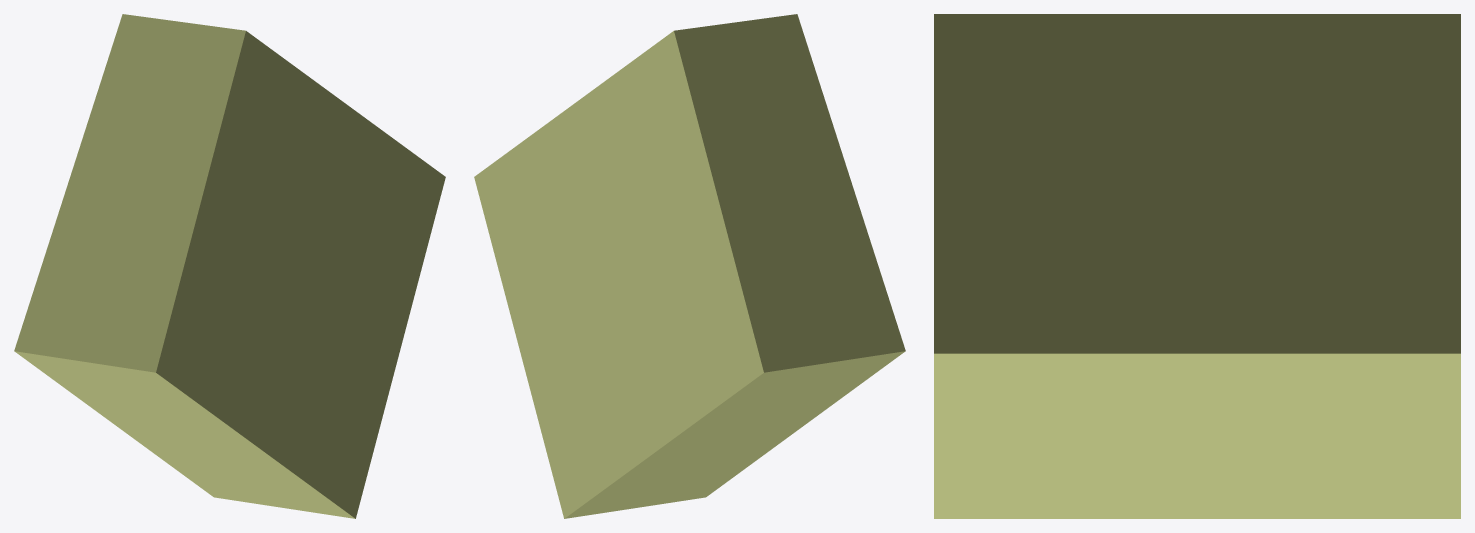
3 renders of one model, left to right at view 1: azimuth 30°, elevation 25°; view 2: azimuth 150°, elevation 25°; view 3: azimuth 270°, elevation 25°, orthographic. The views are drawn at different scales.
Visible parts, largest first — view 1: 0_0_1_3_1_2_1_3_2_1_3; view 2: 0_0_1_3_1_2_1_3_2_1_3; view 3: 0_0_1_3_1_2_1_3_2_1_3.
Boxes of the visible parts, x1,y1,x2,y2 form: 0_0_1_3_1_2_1_3_2_1_3: (14, 14, 445, 518); 0_0_1_3_1_2_1_3_2_1_3: (474, 14, 905, 518); 0_0_1_3_1_2_1_3_2_1_3: (934, 14, 1460, 518).
Bounding box in the file's own units: 6.03 × 9.12 × 9.
